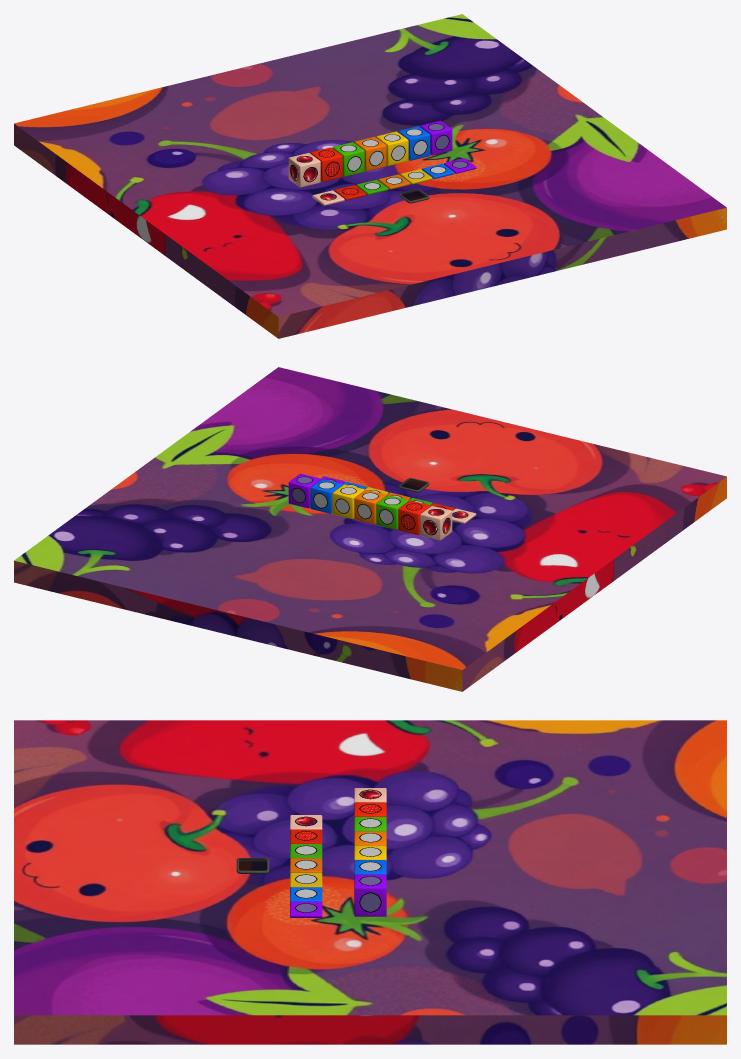
Rendered from models.fbx.
The picture shows the model from 3 angles, top to bottom: view 1: azimuth 30°, elevation 25°; view 2: azimuth 150°, elevation 25°; view 3: azimuth 270°, elevation 25°; orthographic projection. The views are drawn at different scales.
Visible parts, largest first — view 1: Cube.014, Cube.006, Cube.001, Cube.004, Cube.005, Cube.002, Cube.003, Cube; view 2: Cube.014, Cube.006, Cube.001, Cube.004, Cube.005, Cube.002, Cube.003, Cube; view 3: Cube.014, Cube.005, Cube.013, Cube.015, Cube.011.
Part boxes in pixels (left/top/right/bottom): Cube.014: left=14, top=14, right=726, bottom=338; Cube.006: left=288, top=153, right=320, bottom=187; Cube.001: left=332, top=142, right=364, bottom=176; Cube.004: left=398, top=126, right=430, bottom=160; Cube.005: left=420, top=120, right=452, bottom=155; Cube.002: left=310, top=147, right=342, bottom=182; Cube.003: left=376, top=131, right=408, bottom=165; Cube: left=354, top=137, right=386, bottom=171; Cube.014: left=14, top=367, right=726, bottom=691; Cube.006: left=420, top=506, right=452, bottom=540; Cube.001: left=376, top=495, right=408, bottom=529; Cube.004: left=310, top=479, right=342, bottom=513; Cube.005: left=288, top=473, right=320, bottom=508; Cube.002: left=398, top=500, right=430, bottom=535; Cube.003: left=332, top=484, right=364, bottom=518; Cube: left=354, top=490, right=386, bottom=524; Cube.014: left=14, top=720, right=726, bottom=1044; Cube.005: left=354, top=874, right=386, bottom=916; Cube.013: left=290, top=901, right=322, bottom=917; Cube.015: left=236, top=858, right=269, bottom=873; Cube.011: left=290, top=872, right=322, bottom=887.
Size of the model in its own units: 4294 by 404 by 4387.
